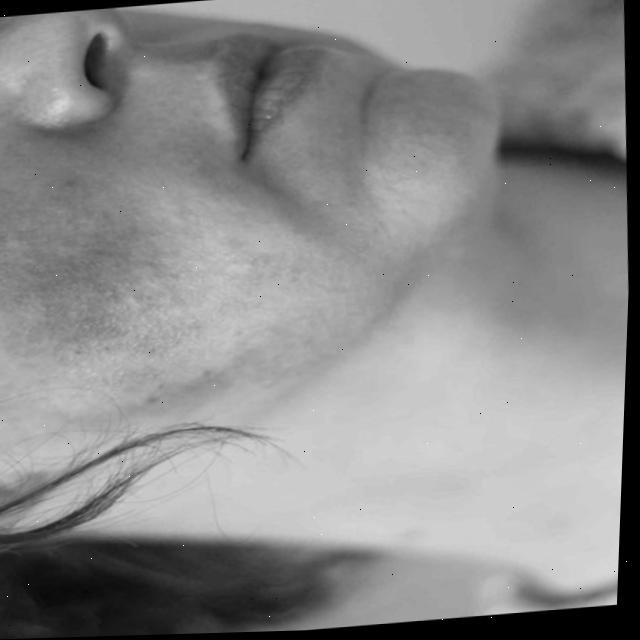Rosacea: (0, 144, 396, 420), (397, 54, 499, 182)
